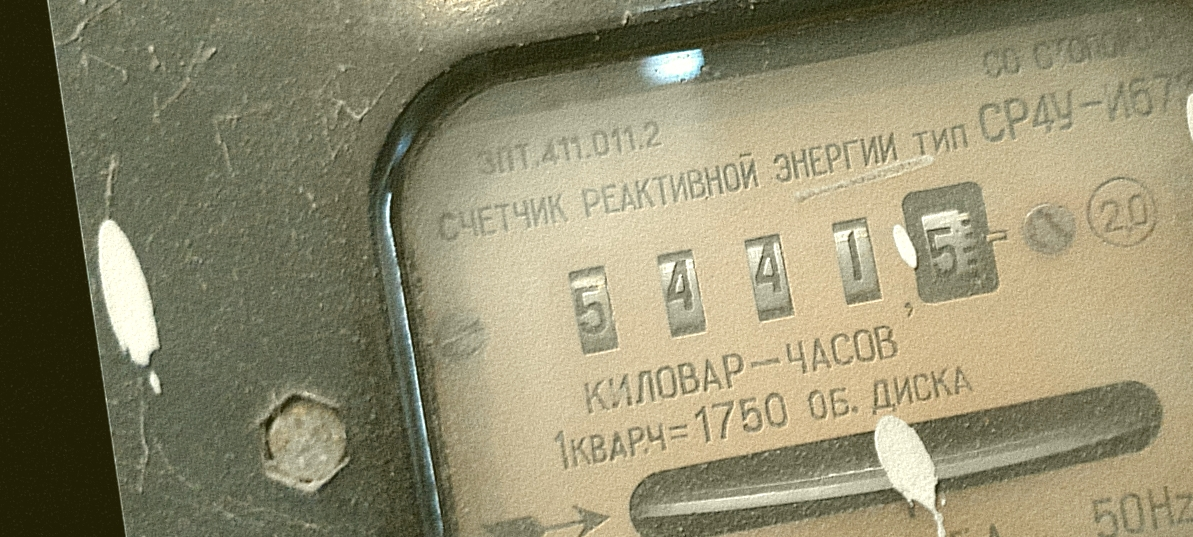1: (838, 226, 870, 287)
4: (744, 234, 790, 305), (658, 253, 701, 319)
5: (922, 219, 966, 286), (568, 279, 615, 341)
screen: (537, 155, 1029, 387)
